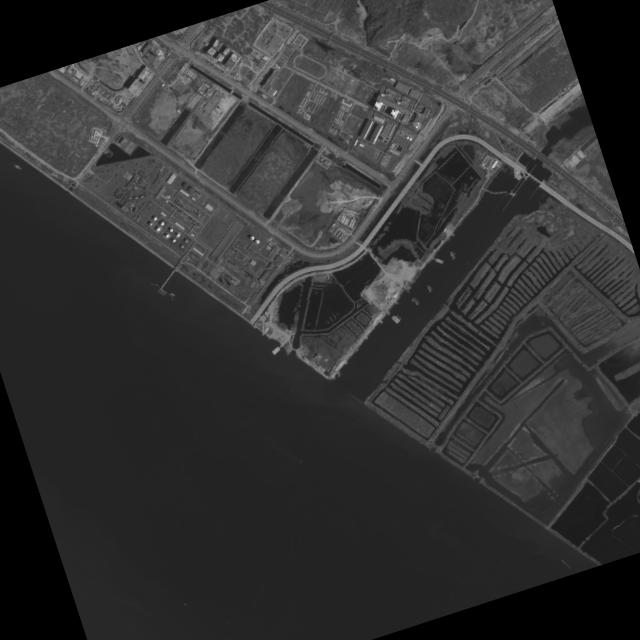ship: (561, 559, 572, 569), (392, 315, 400, 323), (13, 163, 22, 170), (396, 314, 402, 320), (170, 292, 176, 297), (412, 297, 417, 301), (415, 300, 419, 304), (414, 299, 418, 303), (417, 302, 420, 306), (416, 302, 420, 305), (415, 300, 419, 303), (413, 298, 417, 301), (416, 301, 419, 304), (414, 299, 417, 302), (412, 297, 415, 300), (184, 603, 188, 605)
storage-tank: (182, 182, 190, 189), (188, 185, 195, 193), (255, 239, 260, 244), (250, 235, 255, 240), (165, 233, 170, 238), (160, 221, 165, 226), (156, 226, 161, 231), (172, 238, 176, 243), (169, 228, 174, 232), (185, 239, 189, 243), (176, 233, 180, 237), (153, 216, 157, 220), (149, 222, 153, 226), (181, 245, 185, 248), (406, 136, 410, 139), (410, 138, 413, 141), (400, 134, 403, 136), (401, 132, 403, 134), (405, 136, 406, 138), (403, 135, 404, 137), (406, 135, 407, 136), (404, 134, 405, 135)
